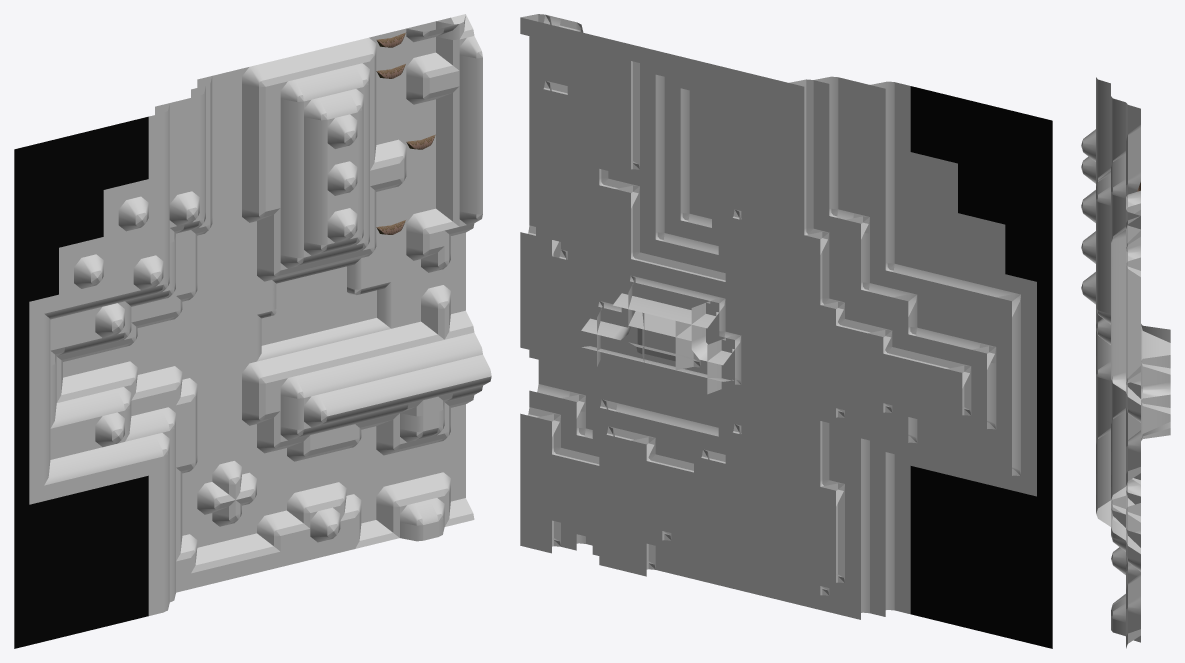
Rendered from Voltic-Cave_00_03.obj.
3 renders of one model, left to right at view 1: azimuth 30°, elevation 25°; view 2: azimuth 150°, elevation 25°; view 3: azimuth 270°, elevation 25°, orthographic. The views are drawn at different scales.
Visible parts, largest first — view 1: map; view 2: map; view 3: map.
Boxes of the visible parts, x1,y1,x2,y2 form: map: (14,14,491,648); map: (520,14,1052,648); map: (1081,77,1170,648).
Bounding box in the file's own units: 32 × 32 × 6.
